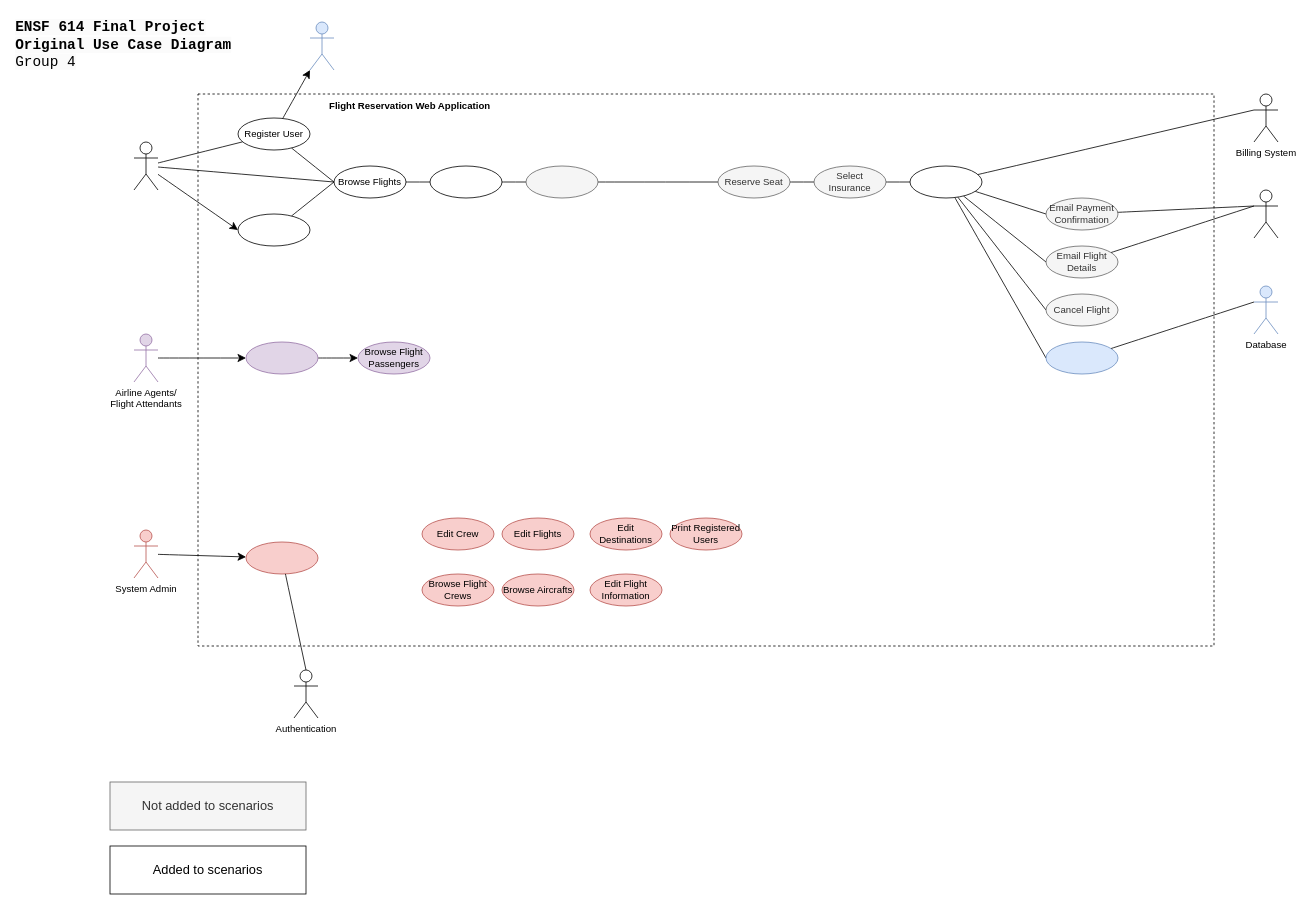
This 1310x908 diagram has some shape labels left out. The box of each missing label's shape, as (x1, y1, x2, y2) in pixels:
Admin Login: (245, 541, 318, 574)
Browse Seats: (525, 165, 598, 198)
Email System: (1253, 189, 1278, 238)
Login User: (237, 213, 310, 246)
Make Payment: (909, 165, 982, 198)
Save Data: (1045, 341, 1118, 374)
Select Flight: (429, 165, 502, 198)
Staff Login: (245, 341, 318, 374)
User (Guest/ Registered/ Tourism Agent): (133, 141, 158, 190)
User Database: (309, 21, 334, 70)
